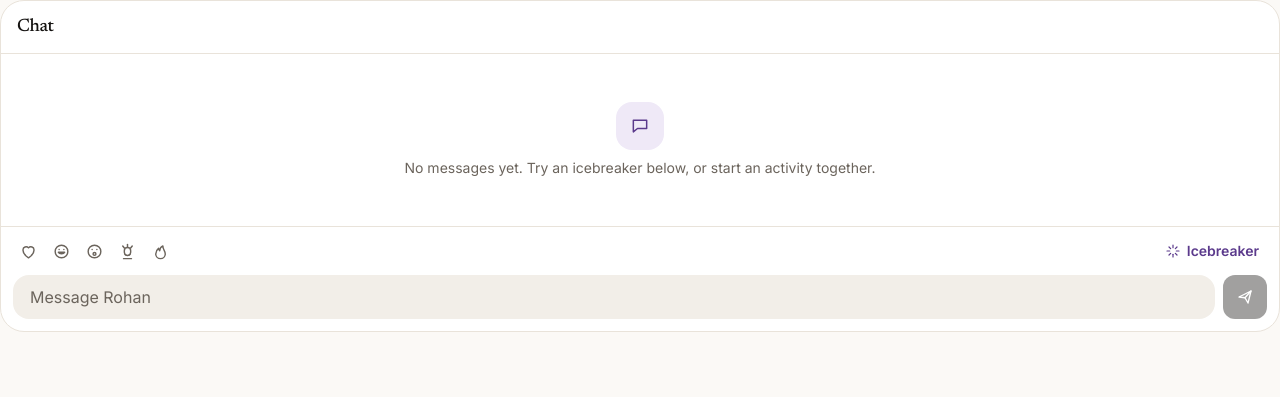
Scenario: chat › shows the safety tip the server returns
In the field labelled "Message": (614,297) top-left (13, 275), bottom-right (1215, 319), type "my number is 9876543210"
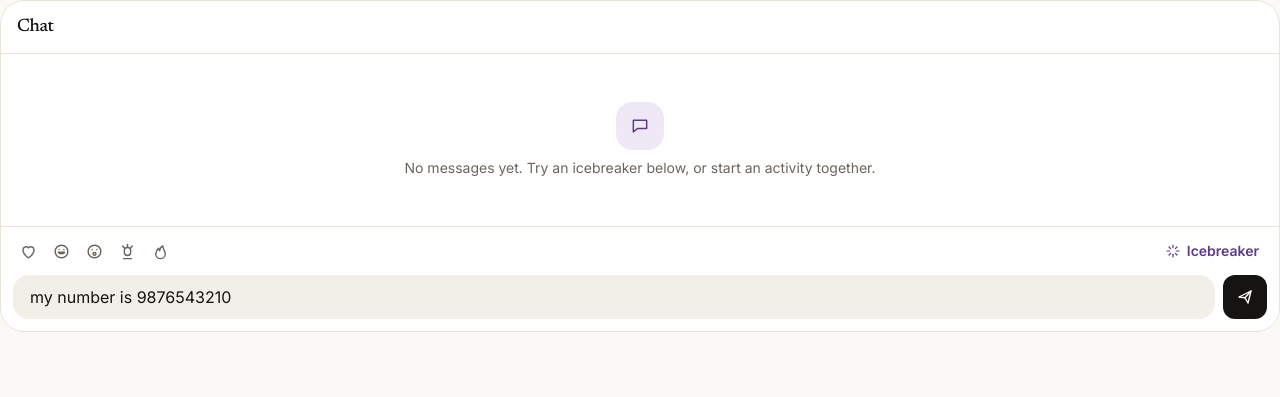
Click the 6th button named "Send": (1245,297) top-left (1223, 275), bottom-right (1267, 319)
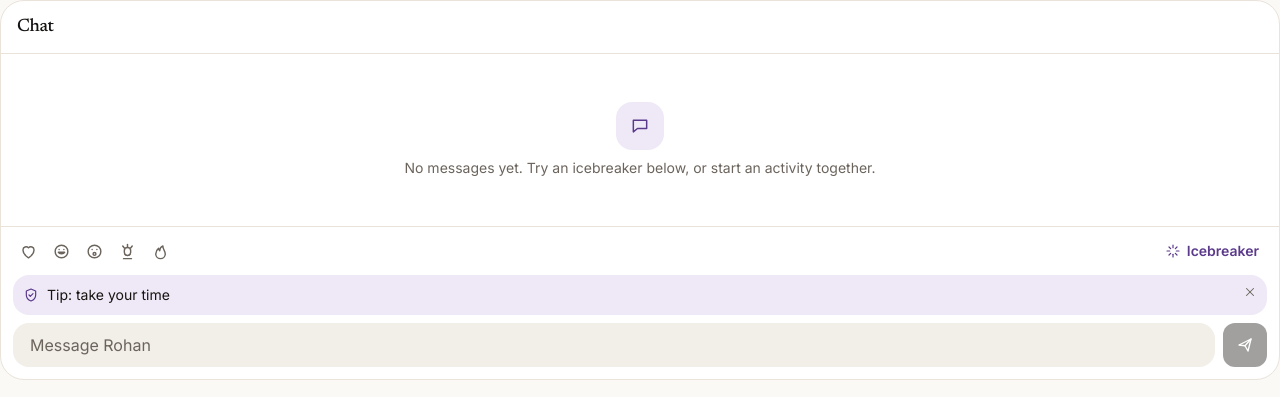
expect the text "Tip: take your time" is shown: met, box top-left (47, 286), bottom-right (170, 303)
